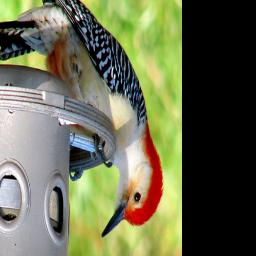Woodpecker: (0, 0, 163, 237)
